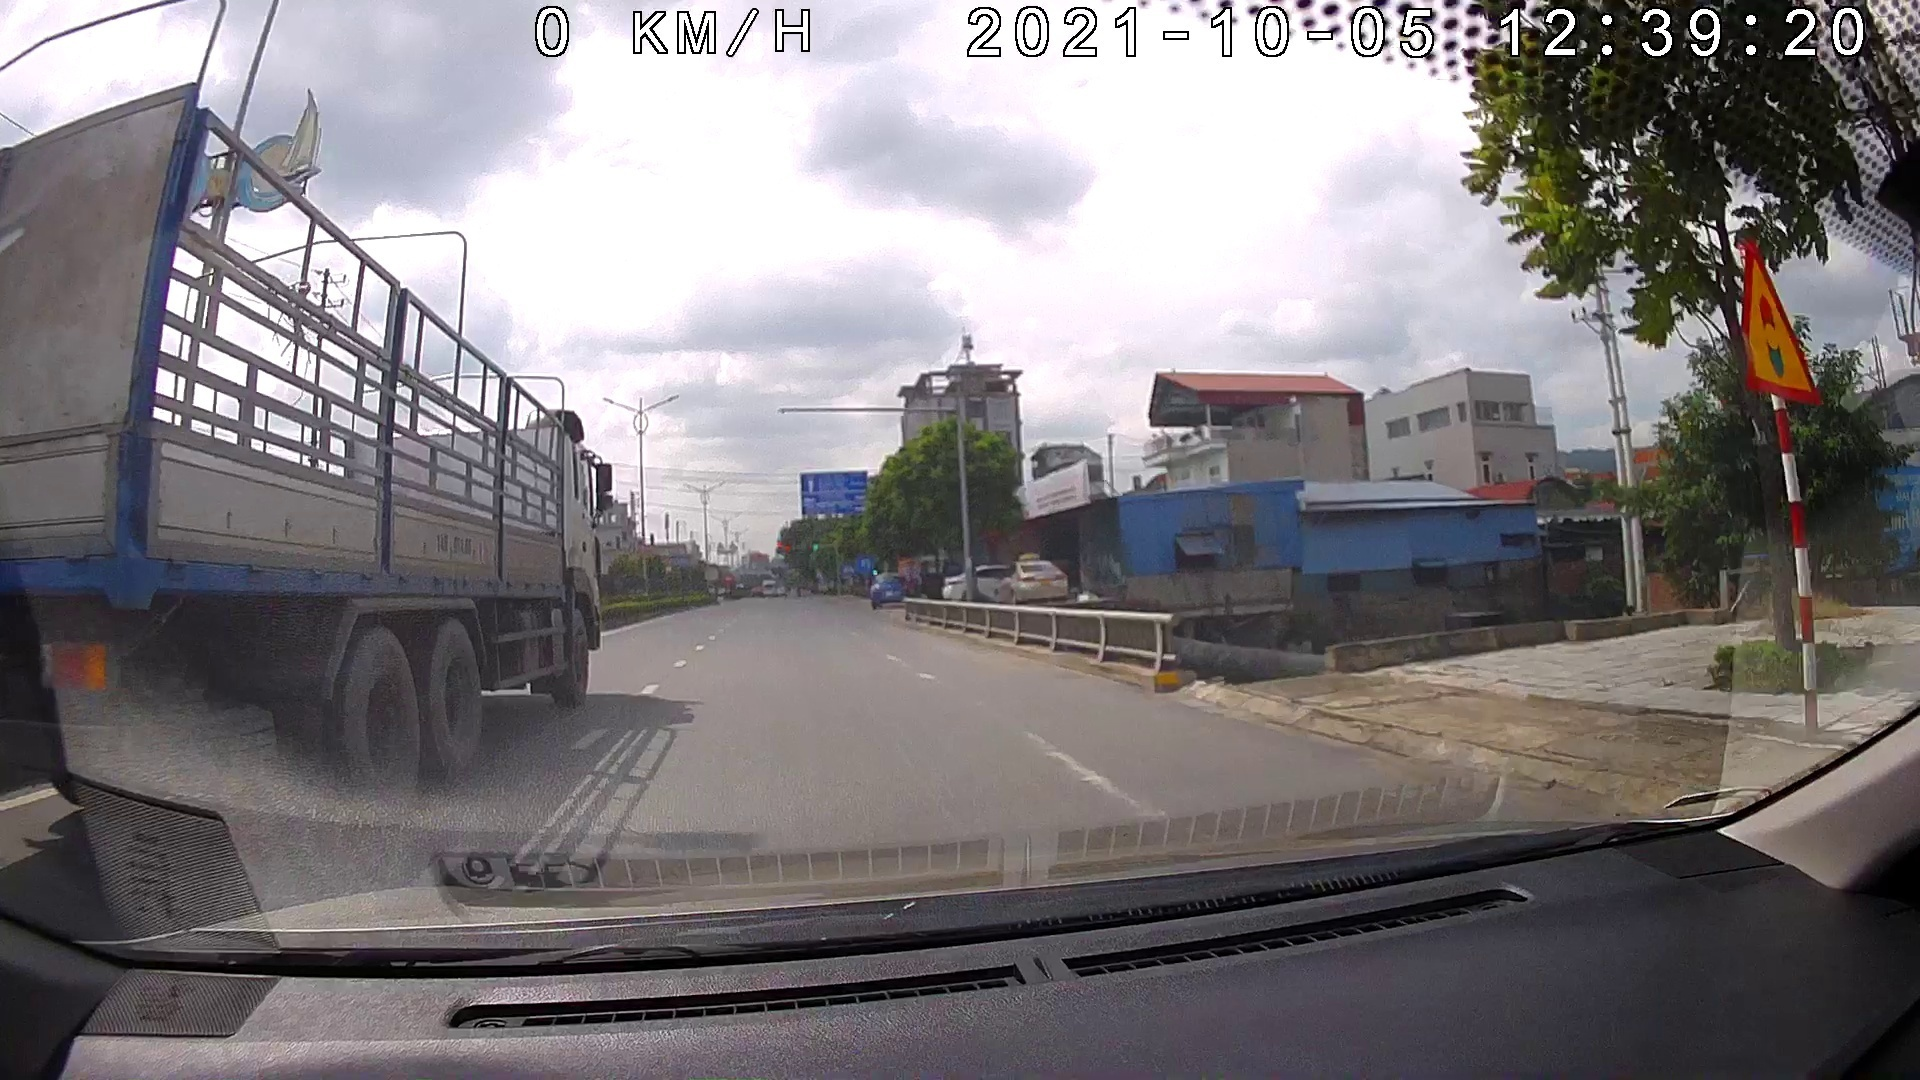Bien khac: (1726, 237, 1826, 407)
